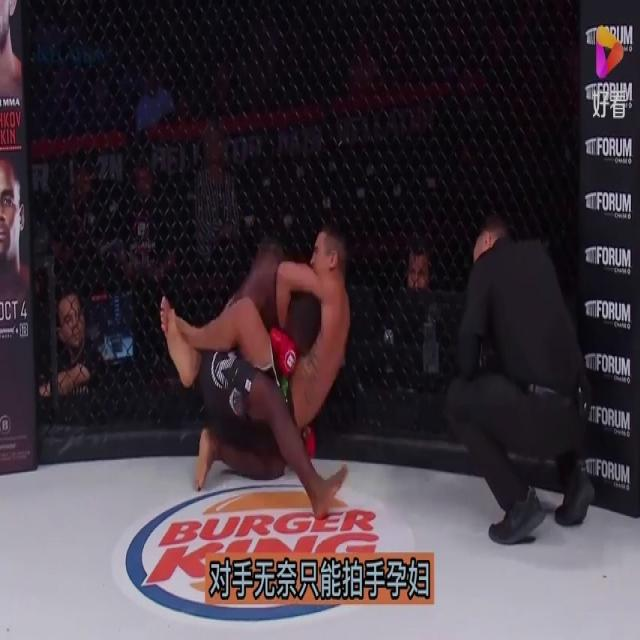fight: (159, 216, 362, 536)
non-fight: (439, 193, 603, 556)
